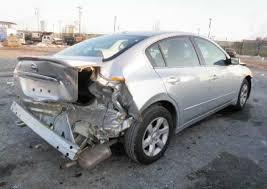boot-dent: (25, 61, 102, 101)
quaterpanel-dent: (108, 78, 161, 115)
rear-bumper-dent: (30, 117, 106, 159)
